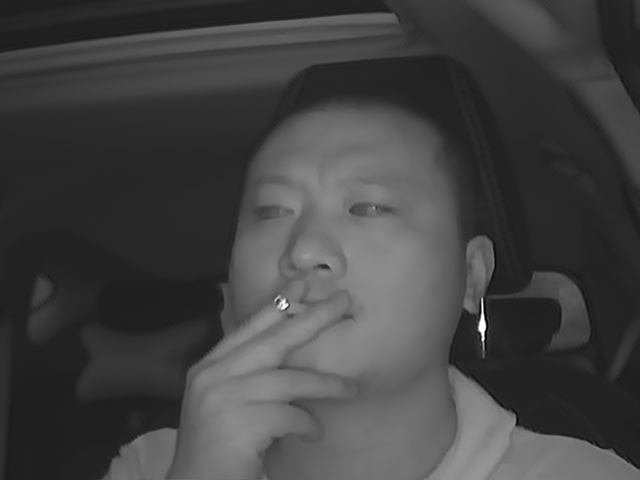hand: (202, 277, 352, 448)
